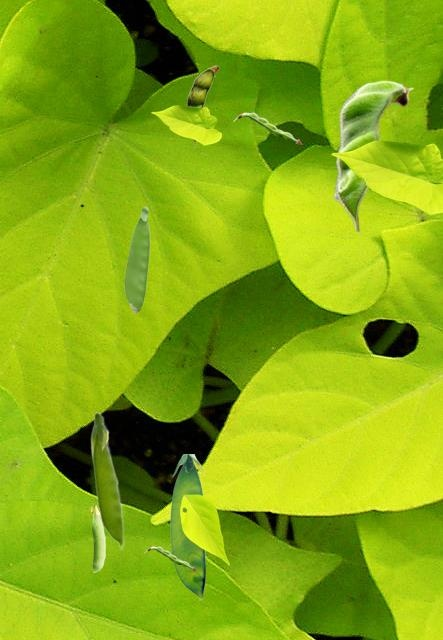pea: (333, 80, 413, 231), (170, 454, 204, 599), (90, 411, 124, 549), (124, 206, 149, 312), (186, 65, 218, 146), (233, 112, 301, 143), (144, 546, 195, 569), (89, 503, 104, 571)
